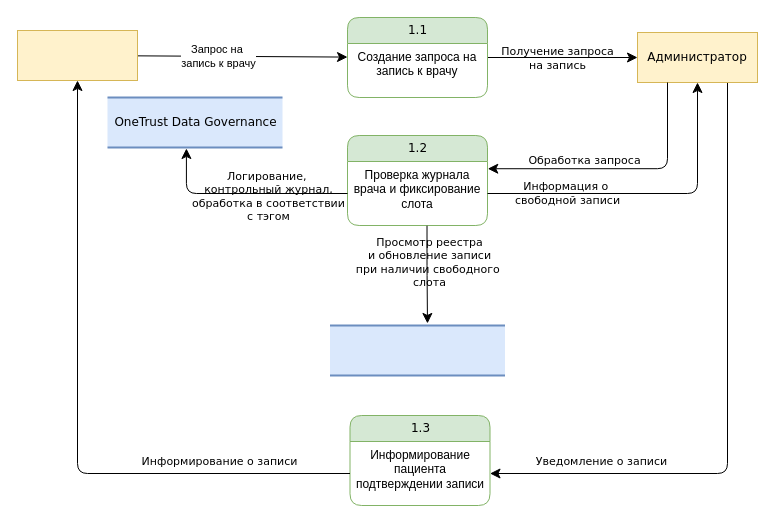
The diagram is 775 pixels wide and 526 high, and some of its shapes have lost their labels. Each missing label, with the centre of its shape:
"Пациент" belongs at (x=77, y=55).
"Сетевой диск с Excel-журналом приёма {INTERNAL}" belongs at (x=417, y=350).
